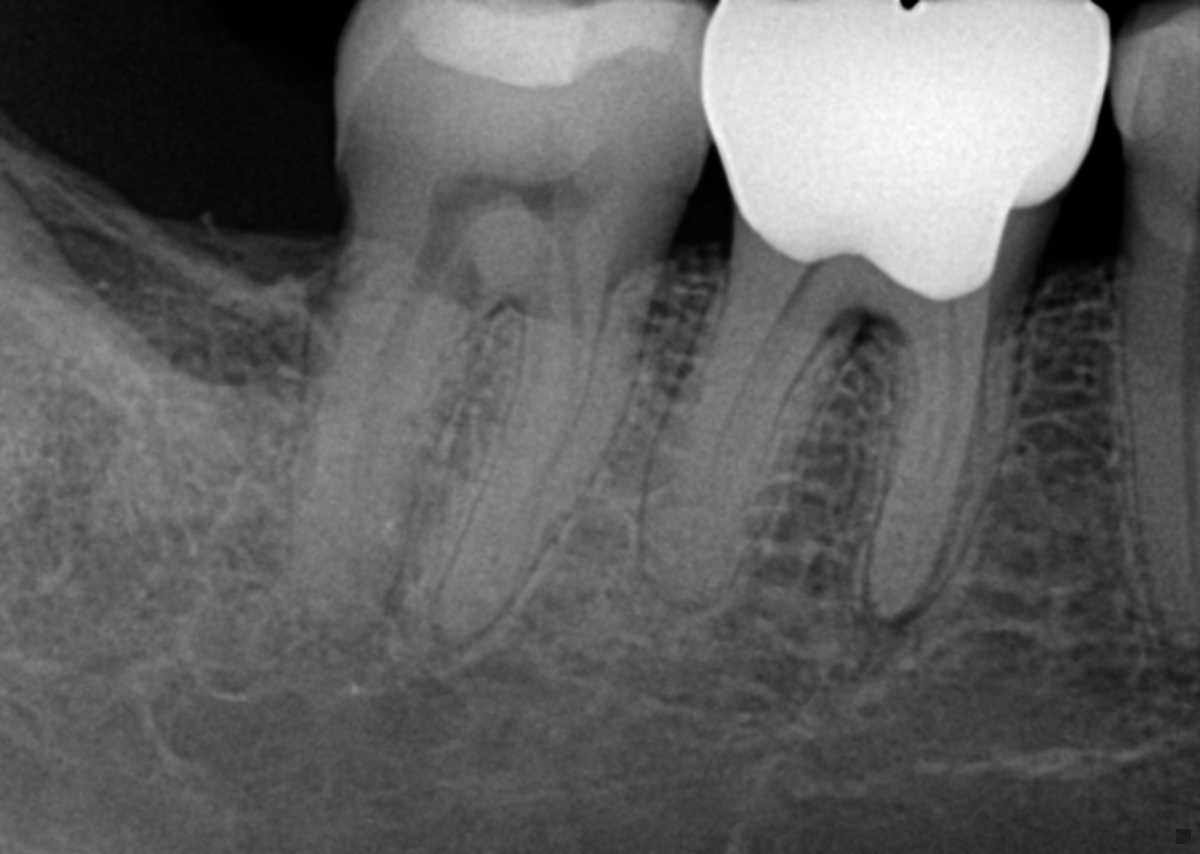Apical Lesion: (842, 599, 924, 672)
Distal Canal: (351, 283, 426, 606), (706, 310, 792, 510)
Distal Root: (292, 250, 488, 648), (642, 272, 847, 611)
Main Canal: (1183, 269, 1200, 569)
Main Root: (1110, 266, 1200, 659)
Mesial Canal: (527, 246, 579, 490)
Mesial Root: (432, 286, 652, 647), (864, 309, 996, 618)
decay: (609, 183, 691, 277)
